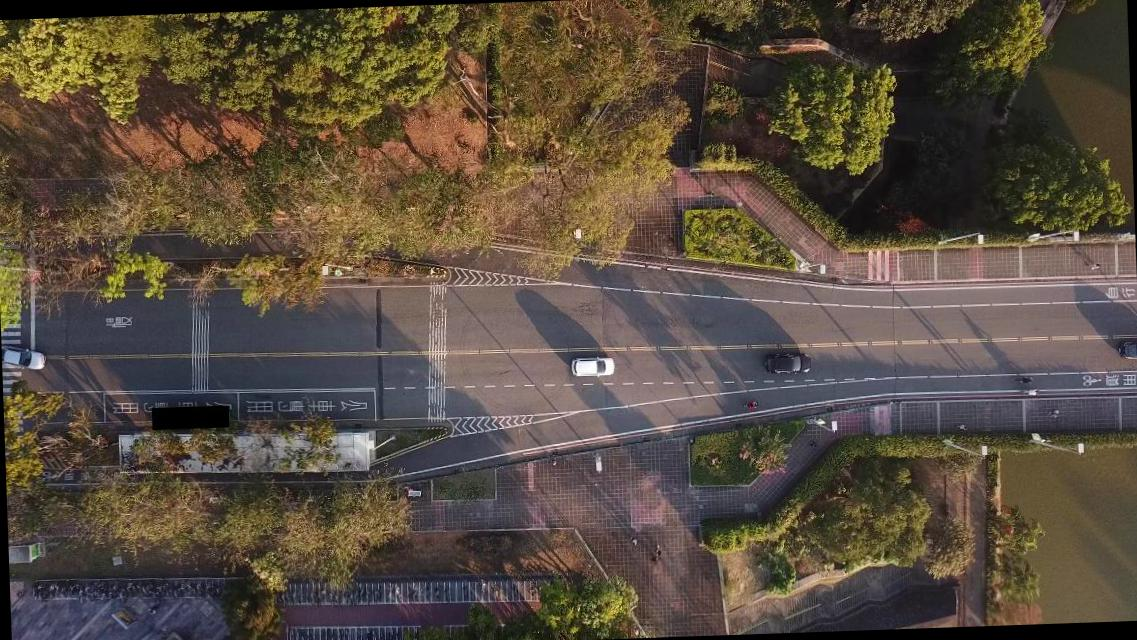vehicle: (2, 344, 45, 372), (764, 352, 810, 376), (569, 354, 614, 378), (1116, 337, 1136, 361)
